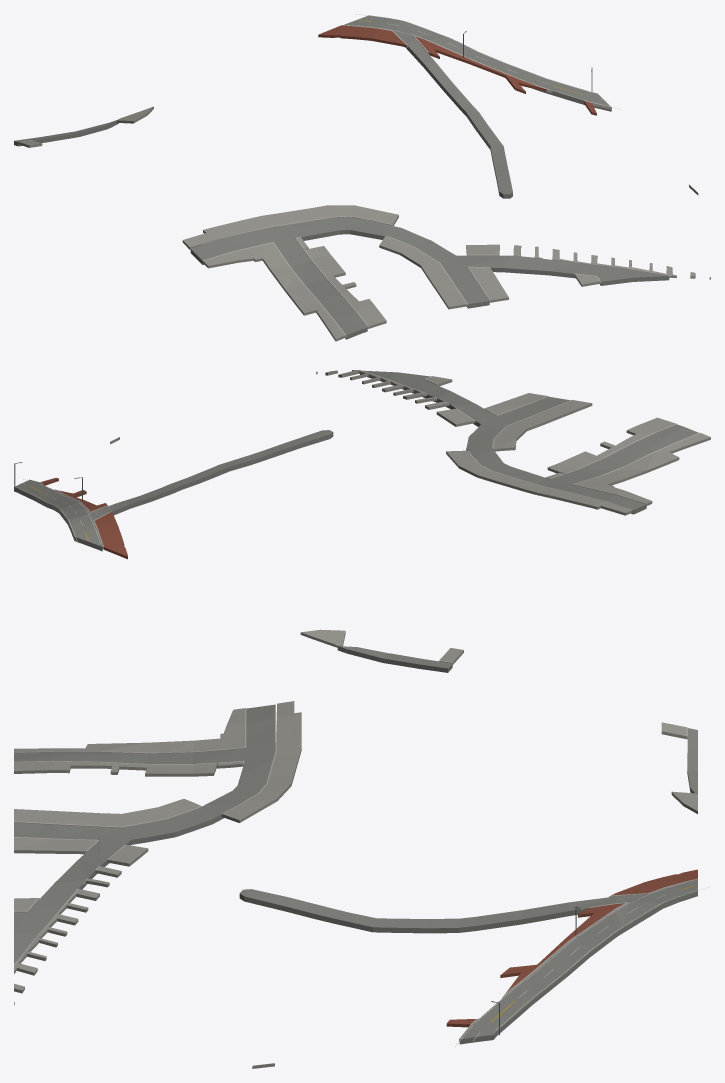
The picture shows the model from 3 angles, top to bottom: view 1: azimuth 30°, elevation 25°; view 2: azimuth 150°, elevation 25°; view 3: azimuth 270°, elevation 25°; orthographic projection. The views are drawn at different scales.
Size of the model in its own units: 149 by 24.51 by 149.
